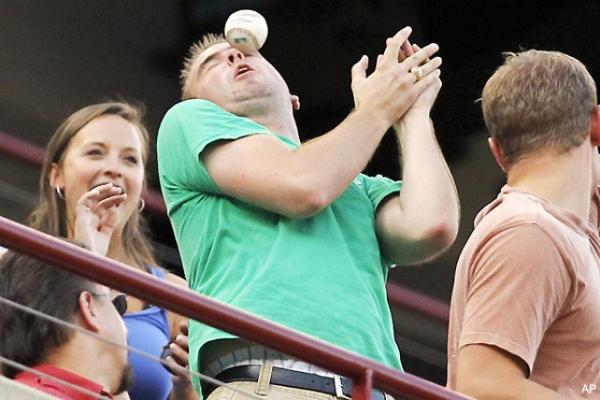person: (157, 25, 462, 400)
